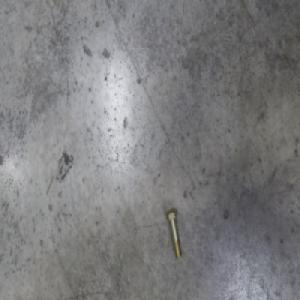Bolt: (163, 208, 181, 260)
